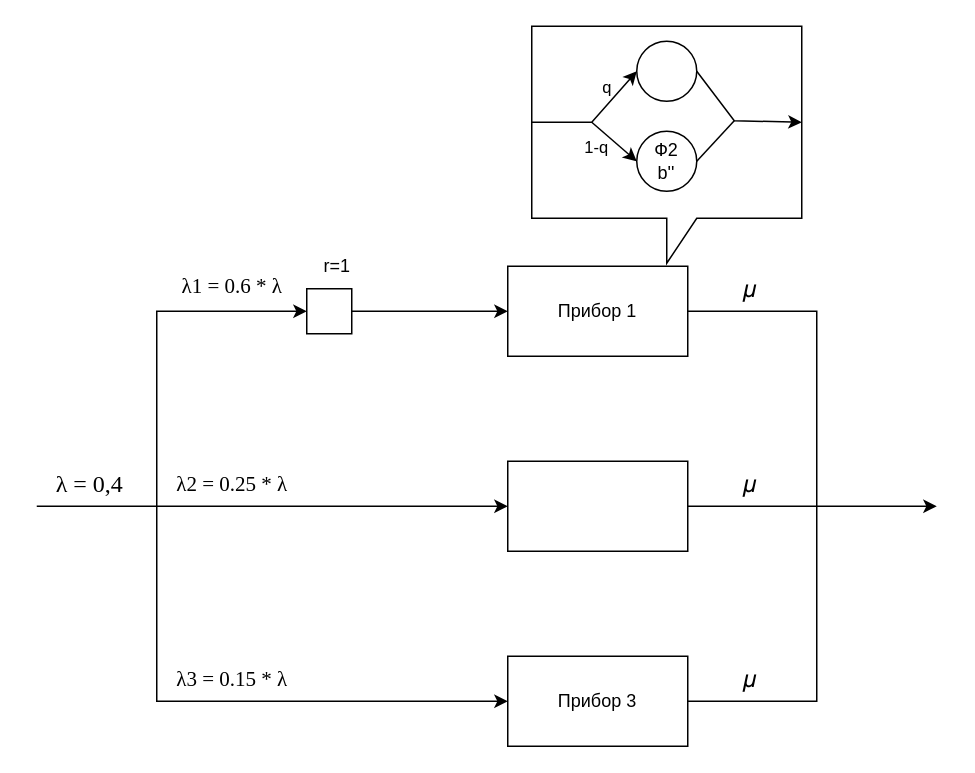
Image size: 975x773. Some labels were removed from this diagram. The box of each missing label's shape, as (x1, y1, x2, y2) in pixels:
Прибор 2: (506, 460, 688, 551)
Ф1 b': (635, 40, 697, 101)
